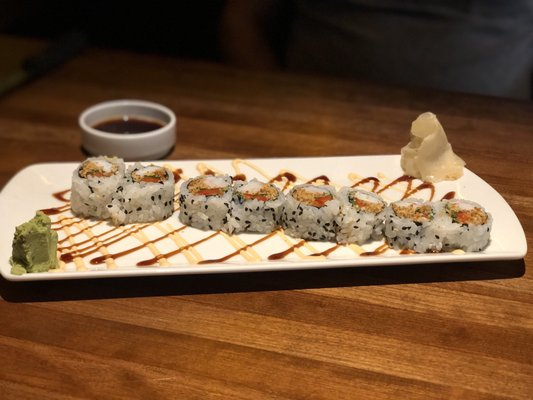sushi: (77, 99, 177, 161)
